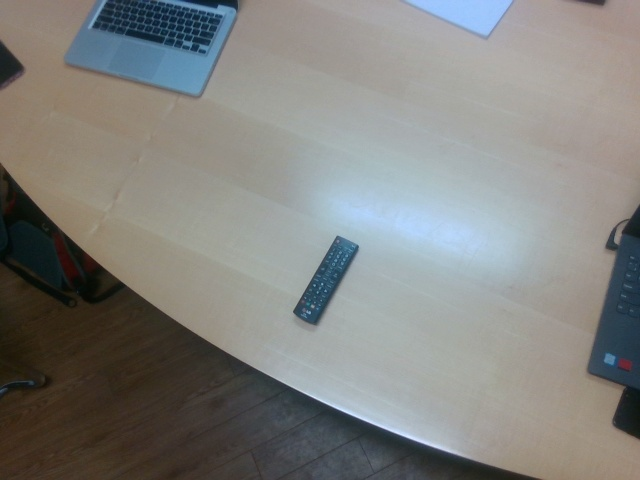remote: (292, 235, 357, 326)
